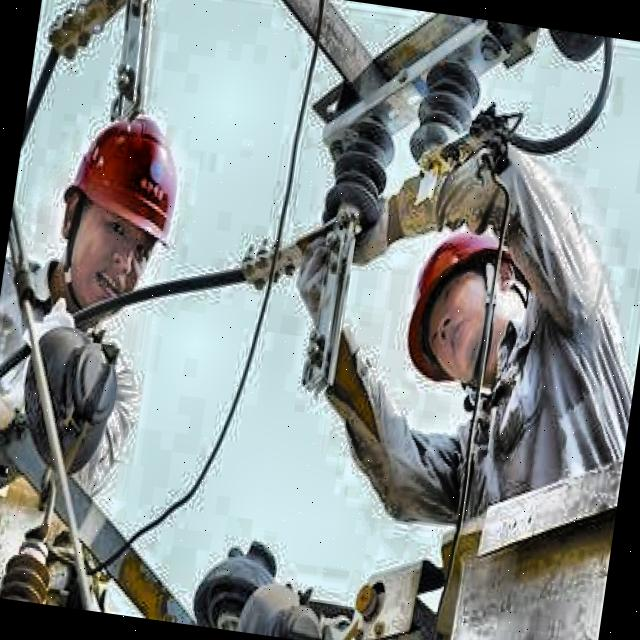helmet: (35, 90, 206, 330), (395, 210, 522, 397)
